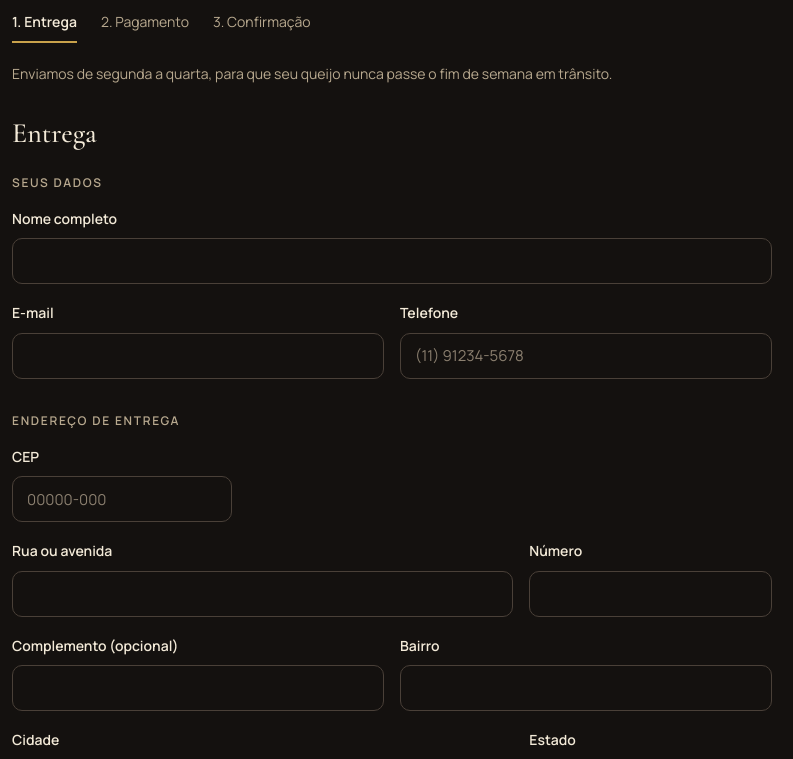
Test: FluxoDoCheckout: estrutura › aplica a máscara de CEP e de telefone
Expected: the heading "Entrega" is shown, [12,116,97,150]
Type "01310100" into the field labelled "CEP". click: (122, 499)
box: [12,476,232,522]
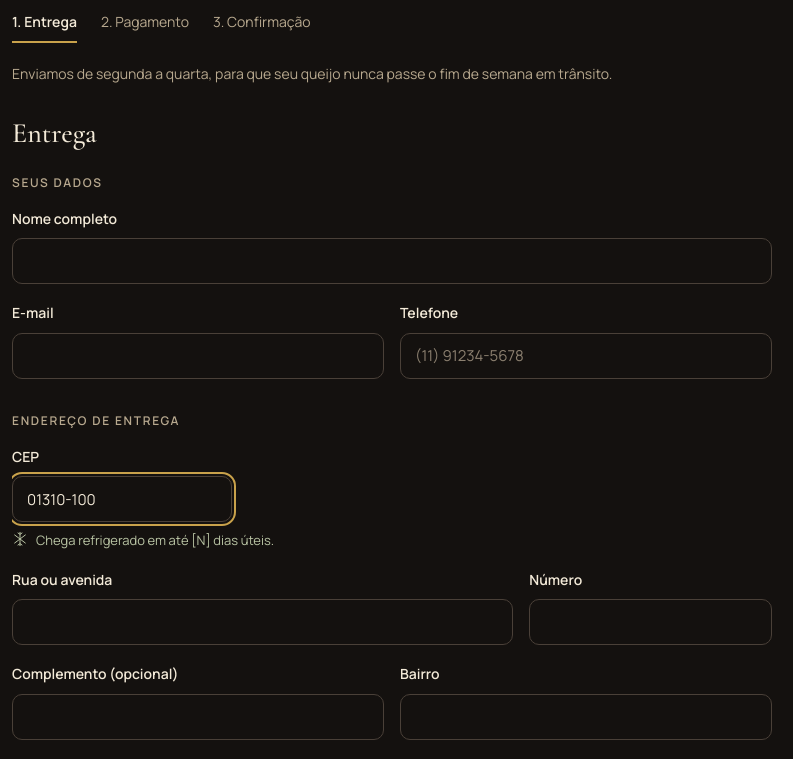
Result: the field labelled "CEP" holds "01310-100" at [12,476,232,522]
Type "11912345678" into the field labelled "Telefone". click: (586, 356)
box: [400,332,772,378]
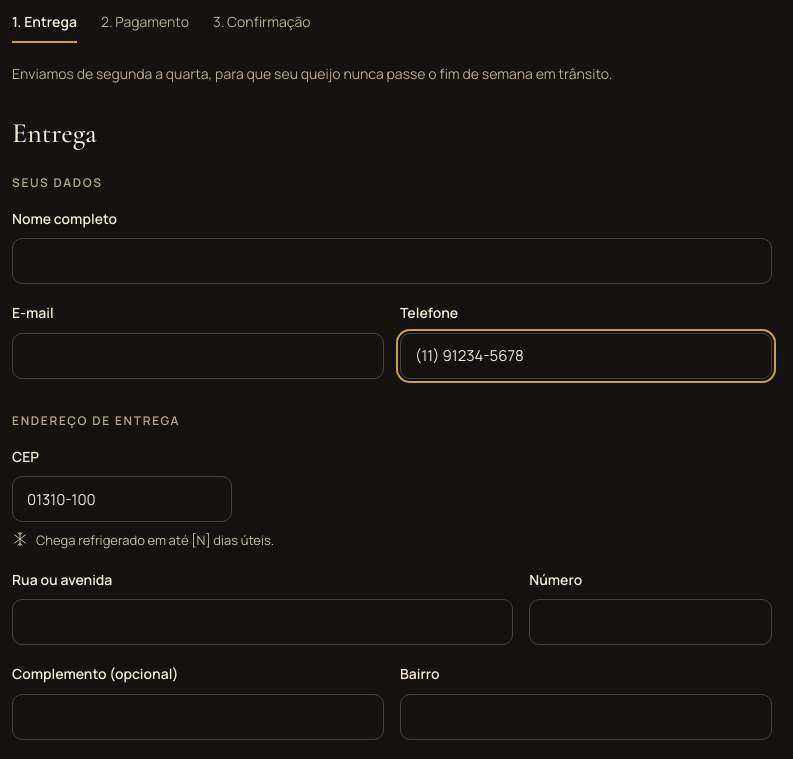
Result: the field labelled "Telefone" holds "(11) 91234-5678" at [400,332,772,378]
